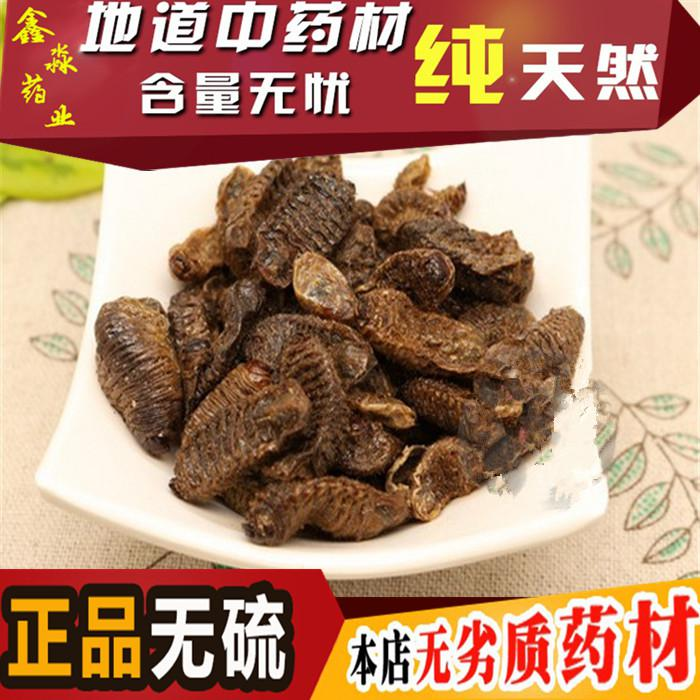grub: (240, 472, 411, 550)
